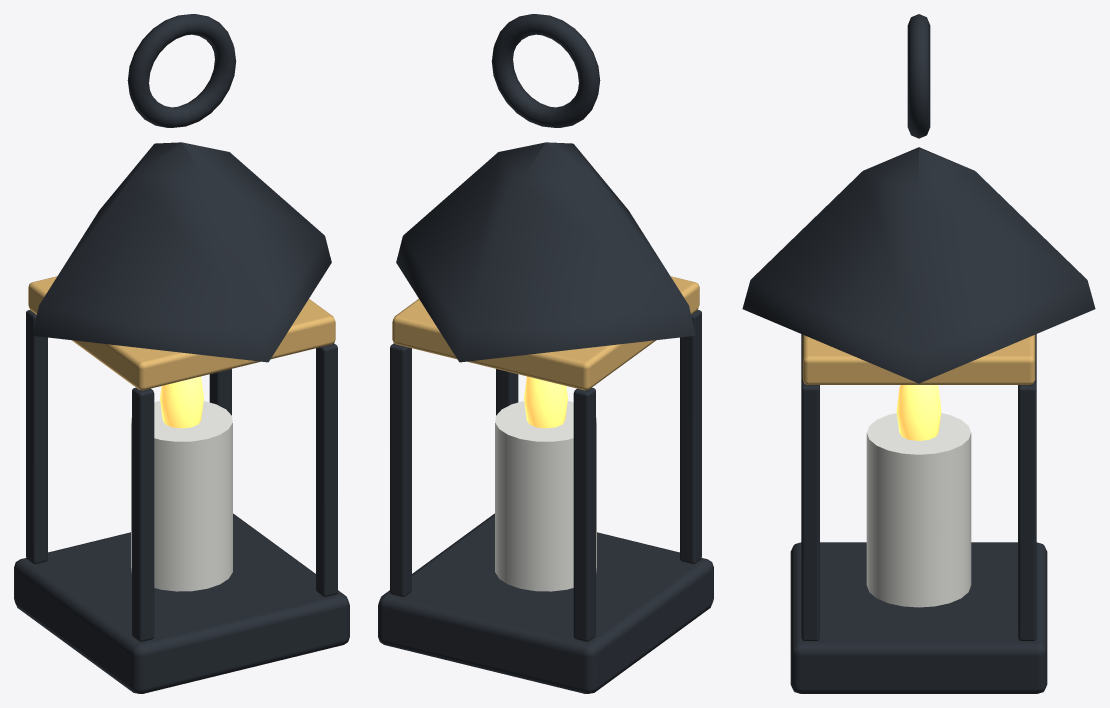
File: christmas-storybook-carriage-lantern-4cb60e57__18726.glb
3 renders of one model, left to right at view 1: azimuth 30°, elevation 25°; view 2: azimuth 150°, elevation 25°; view 3: azimuth 270°, elevation 25°, orthographic. The views are drawn at different scales.
Visible parts, largest first — view 1: ink, cream, brass, light; view 2: ink, cream, brass, light; view 3: ink, cream, brass, light.
Part boxes in pixels (left/top/right/bottom): ink: left=14, top=14, right=349, bottom=693; cream: left=131, top=401, right=232, bottom=591; brass: left=28, top=276, right=335, bottom=390; light: left=160, top=376, right=203, bottom=428; ink: left=378, top=14, right=713, bottom=693; cream: left=495, top=401, right=596, bottom=591; brass: left=392, top=276, right=699, bottom=390; light: left=524, top=376, right=567, bottom=428; ink: left=742, top=14, right=1095, bottom=693; cream: left=866, top=413, right=971, bottom=607; brass: left=802, top=335, right=1035, bottom=384; light: left=896, top=385, right=941, bottom=440.
Bounding box in the file's own units: 0.4401 × 0.858 × 0.4401.
